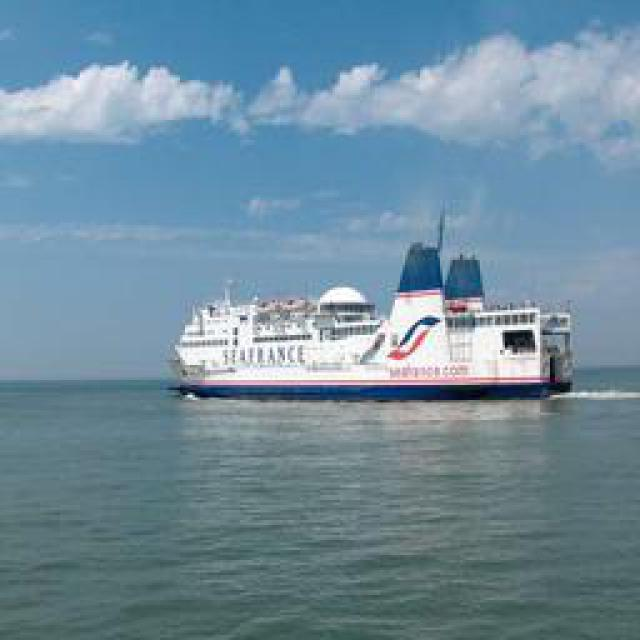Ship: (166, 238, 571, 403)
